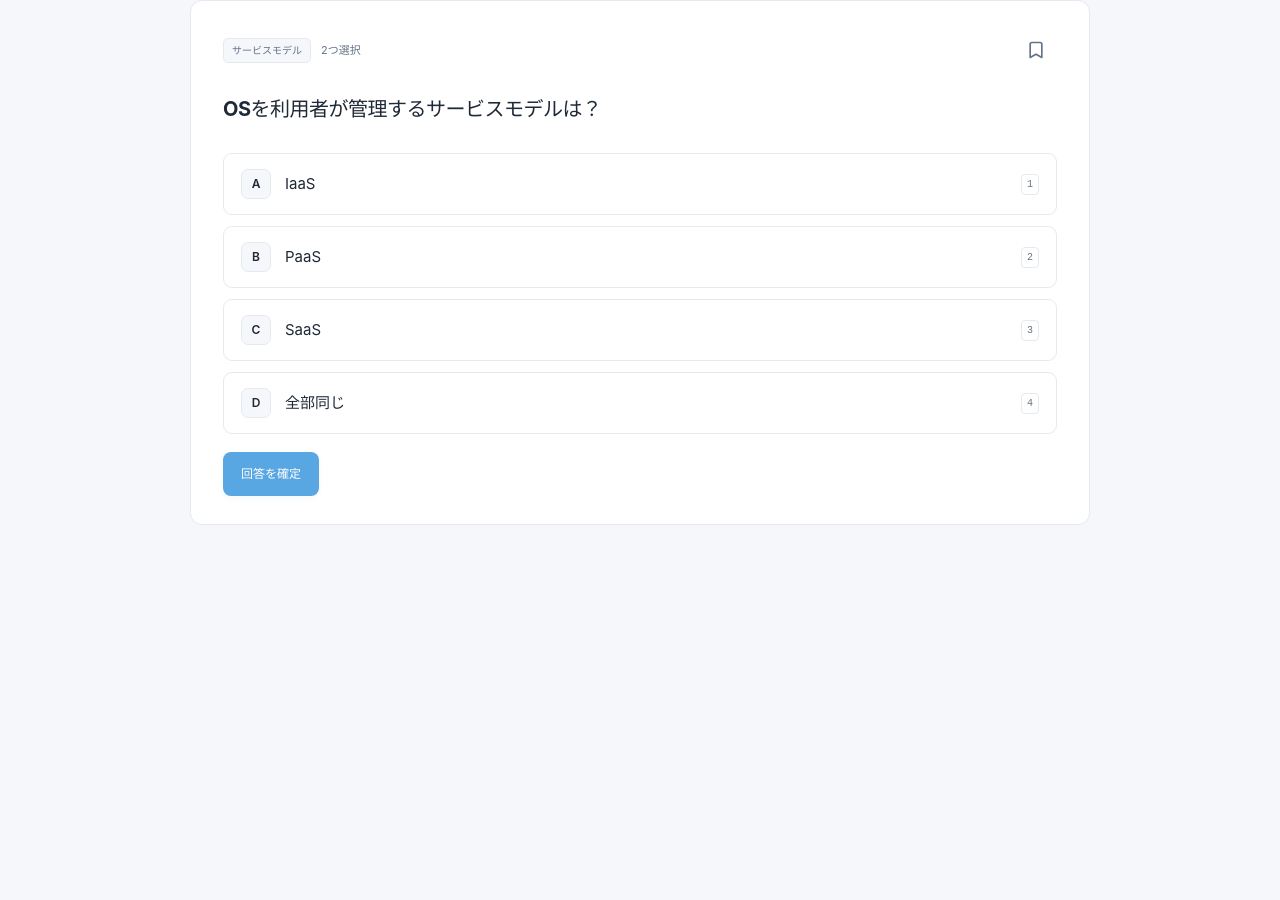
Test: 1タップ演習UI › 複数選択だけ確定ボタンで判定
Click the button "A IaaS 1" at (300, 184), box 223,153 -> 1057,215
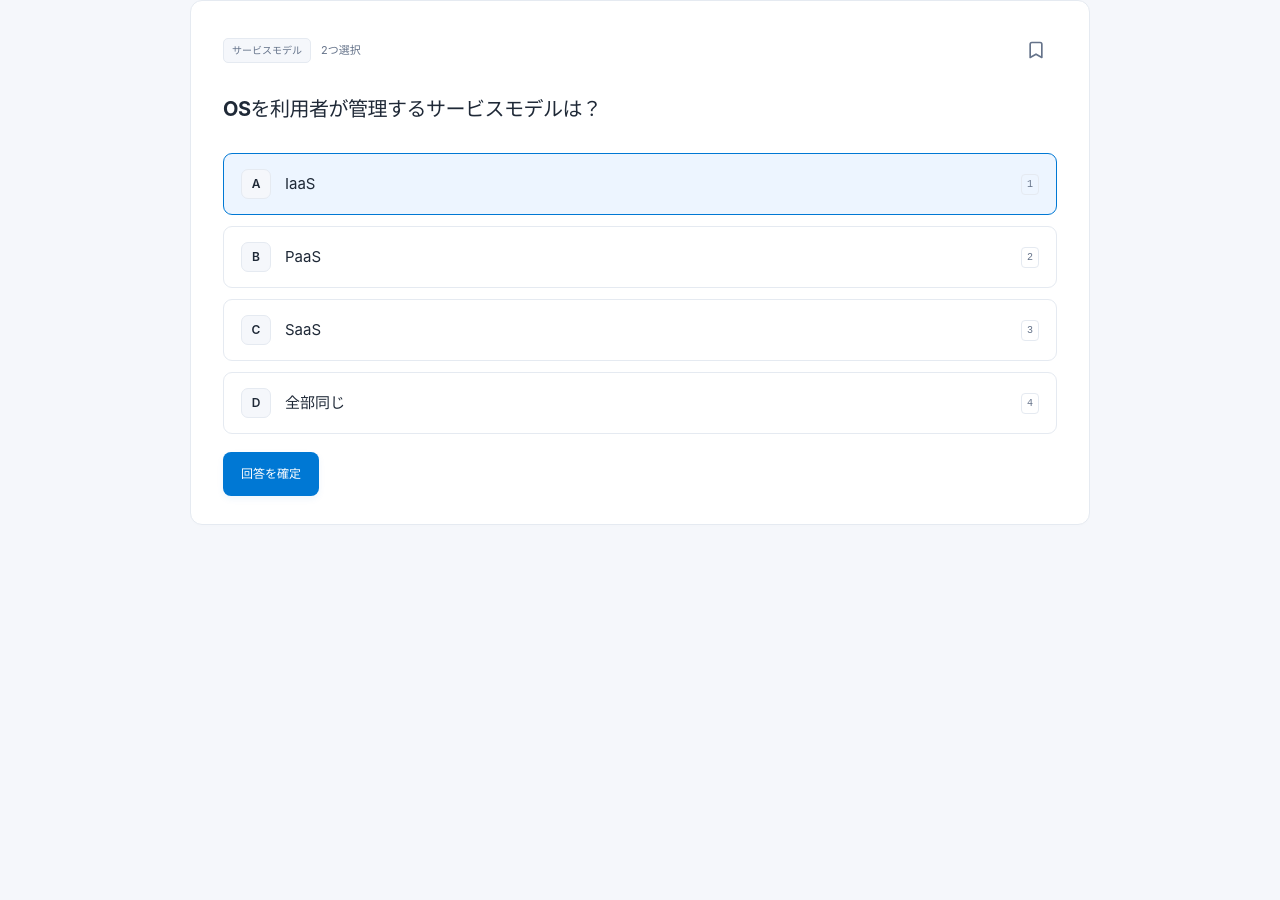
Click the button "B PaaS 2" at (303, 257), box 223,226 -> 1057,288
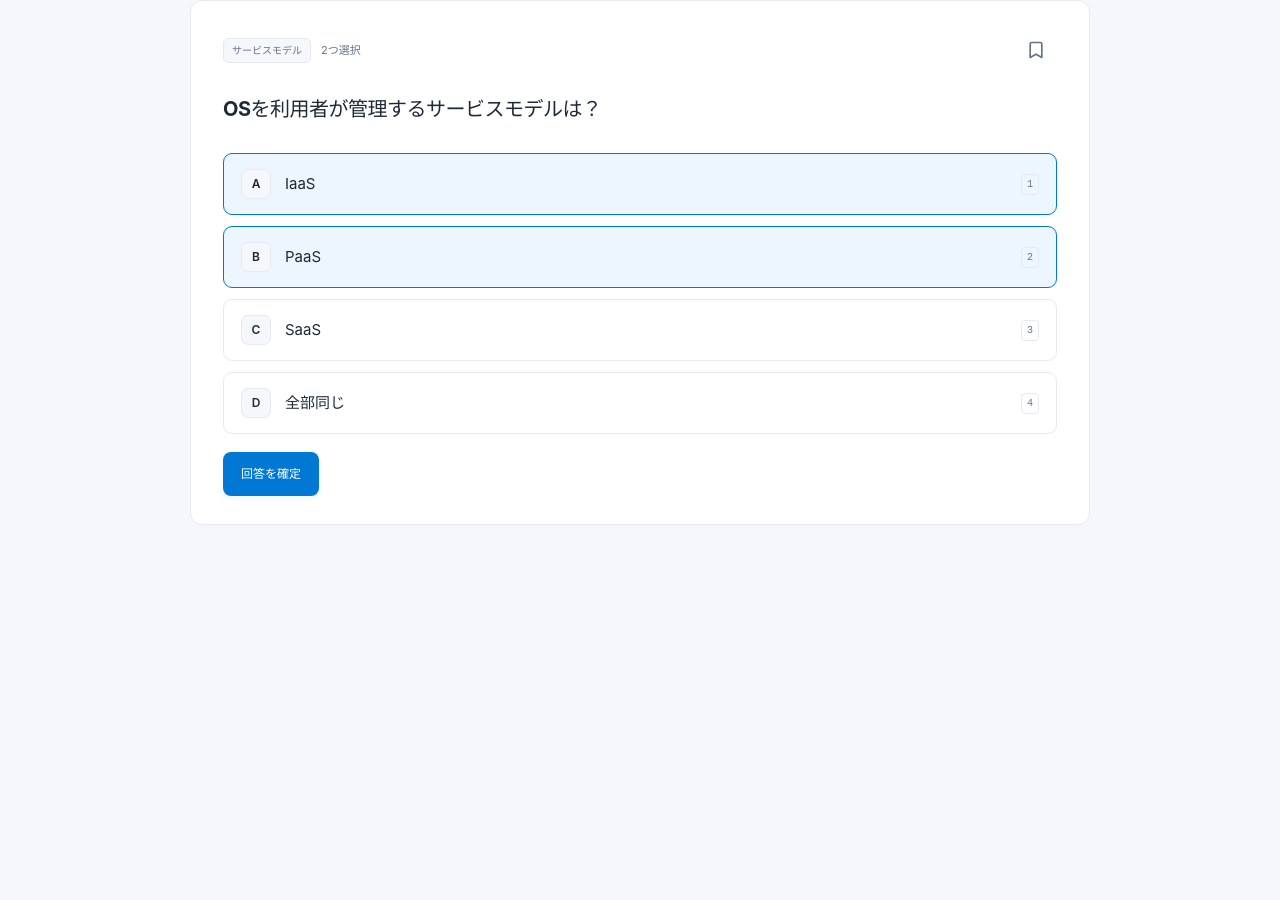
Click the button "回答を確定" at (271, 474), box 223,452 -> 319,496
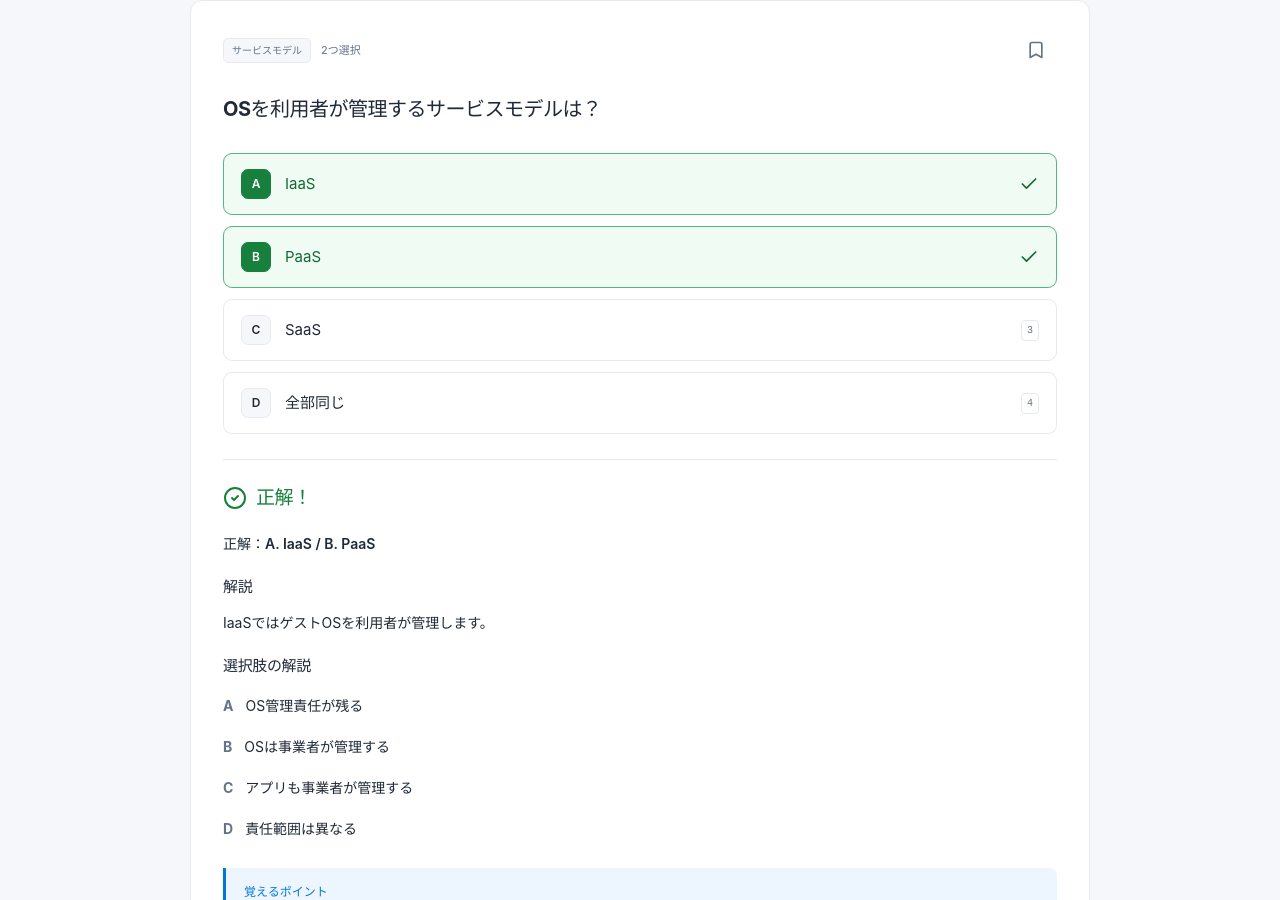
Result: the heading "正解！" is shown at 223,484 -> 312,512
